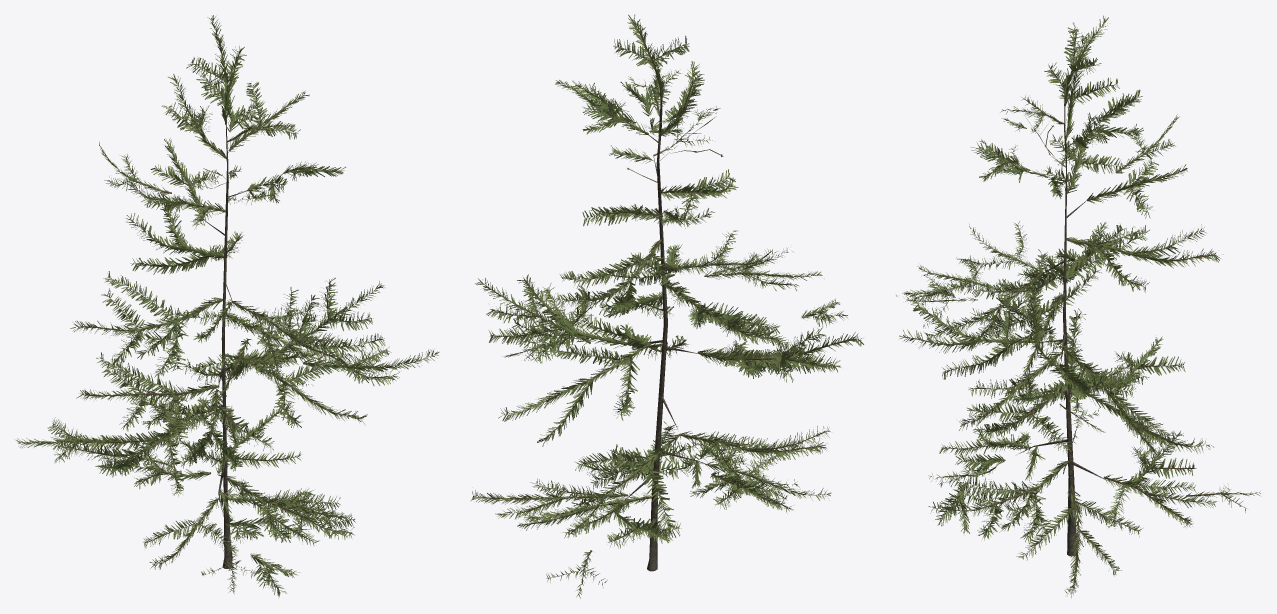
Rendered from forest_fir.glb.
The picture shows the model from 3 angles, left to right: view 1: azimuth 30°, elevation 25°; view 2: azimuth 150°, elevation 25°; view 3: azimuth 270°, elevation 25°; orthographic projection. The views are drawn at different scales.
Parts seen in each view (by area): view 1: fir_sapling_a; view 2: fir_sapling_a; view 3: fir_sapling_a.
Part boxes in pixels (left/top/right/bottom): fir_sapling_a: left=16, top=15, right=439, bottom=598; fir_sapling_a: left=470, top=14, right=863, bottom=598; fir_sapling_a: left=896, top=15, right=1260, bottom=598.
Bounding box in the file's own units: 0.8604 × 1.3 × 0.8015.
2 materials, 2 textured.
